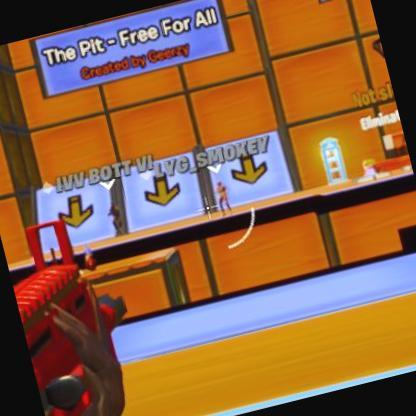person: (107, 198, 132, 234), (210, 178, 234, 214)
